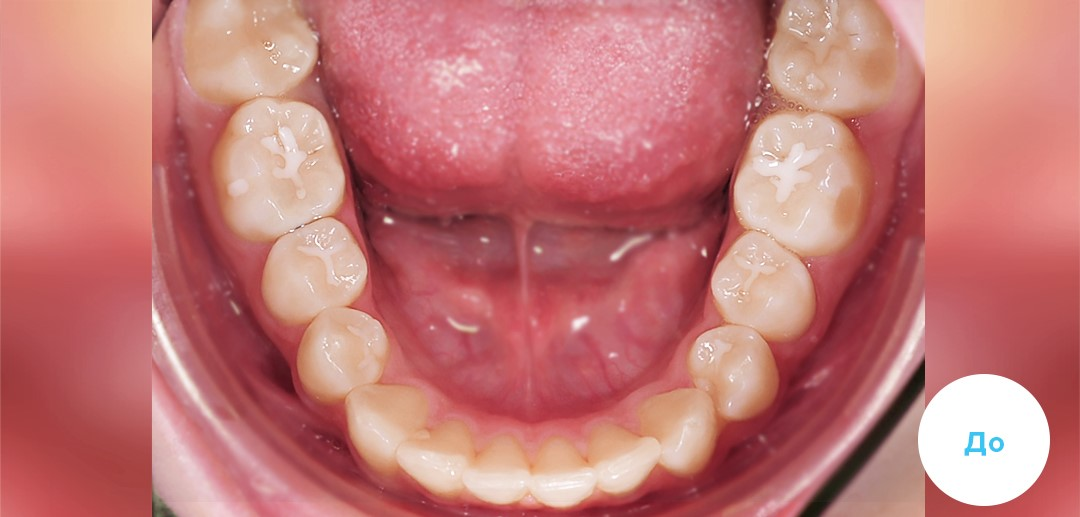LL1BC_healthy: (684, 323, 780, 424)
LL1M_healthy: (730, 113, 869, 258)
LL2BC_healthy: (710, 235, 822, 343)
LL2M_healthy: (762, 1, 899, 113)
LLCI_healthy: (529, 430, 593, 513)
LLC_healthy: (638, 391, 722, 479)
LLLI_healthy: (586, 420, 658, 496)
LR1BC_healthy: (288, 309, 388, 403)
LR1M_healthy: (209, 100, 345, 238)
LR2BC_healthy: (259, 218, 369, 327)
LR2M_healthy: (174, 1, 321, 101)
LRCI_healthy: (469, 435, 529, 502)
LRC_healthy: (337, 383, 438, 468)
LRLI_healthy: (397, 418, 477, 498)
